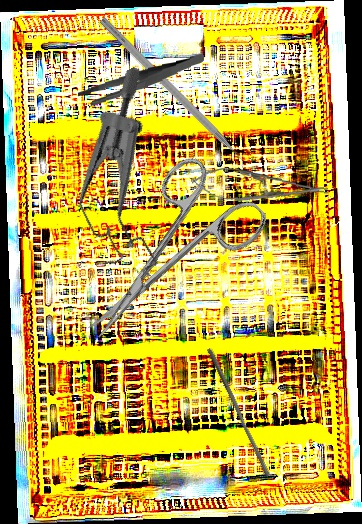Chopper: (90, 16, 255, 180)
Dressing Forceps: (75, 53, 207, 107)
Iris Scissors: (51, 144, 274, 369)
Needle Holder: (191, 165, 329, 208)
Pusher: (201, 347, 276, 478)
Speculum: (32, 64, 222, 293)
